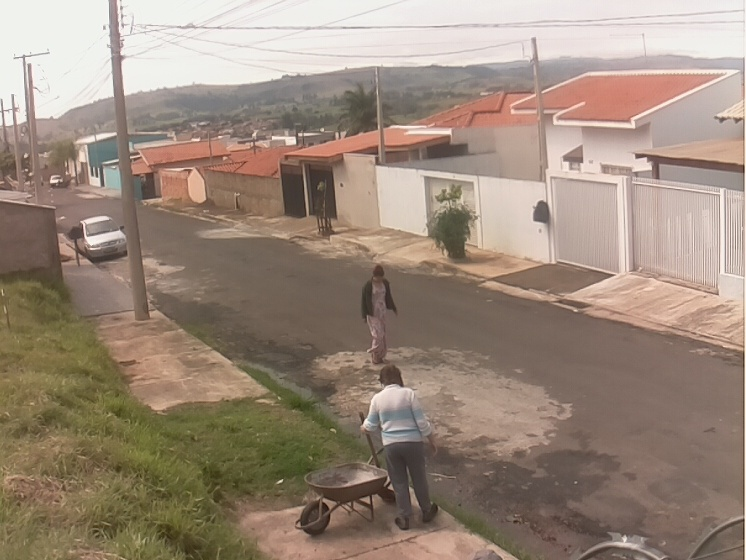person: (359, 365, 438, 530), (360, 263, 400, 364)
